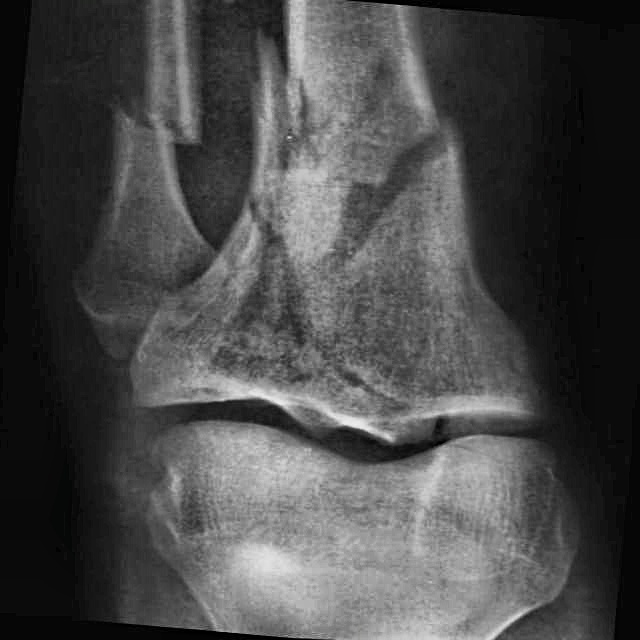Oblique Displaced: (234, 42, 471, 281)
Transverse Displaced: (64, 80, 233, 172)
